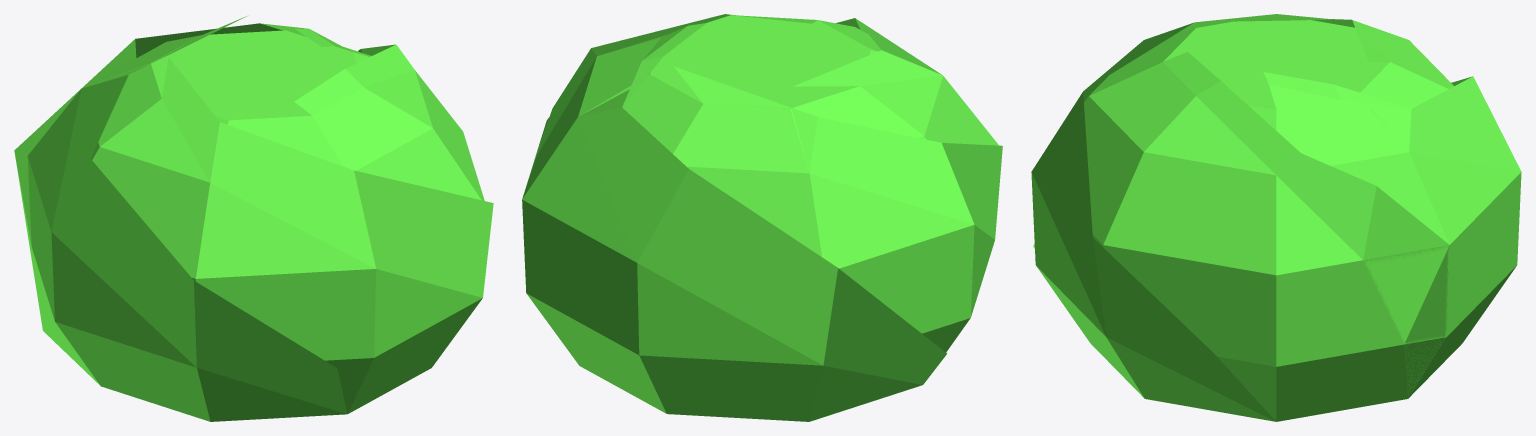
File: cabbage01.obj
The picture shows the model from 3 angles, left to right: view 1: azimuth 30°, elevation 25°; view 2: azimuth 150°, elevation 25°; view 3: azimuth 270°, elevation 25°; orthographic projection. The views are drawn at different scales.
Parts seen in each view (by area): view 1: Cylinder_Cylinder.002; view 2: Cylinder_Cylinder.002; view 3: Cylinder_Cylinder.002.
Boxes of the visible parts, box(x1,y1,x2,y2) form: Cylinder_Cylinder.002: box(14, 16, 493, 421); Cylinder_Cylinder.002: box(522, 14, 1002, 421); Cylinder_Cylinder.002: box(1031, 14, 1521, 421).
Size of the model in its own units: 0.1858 by 0.1441 by 0.1858.
1 material, 1 textured.
